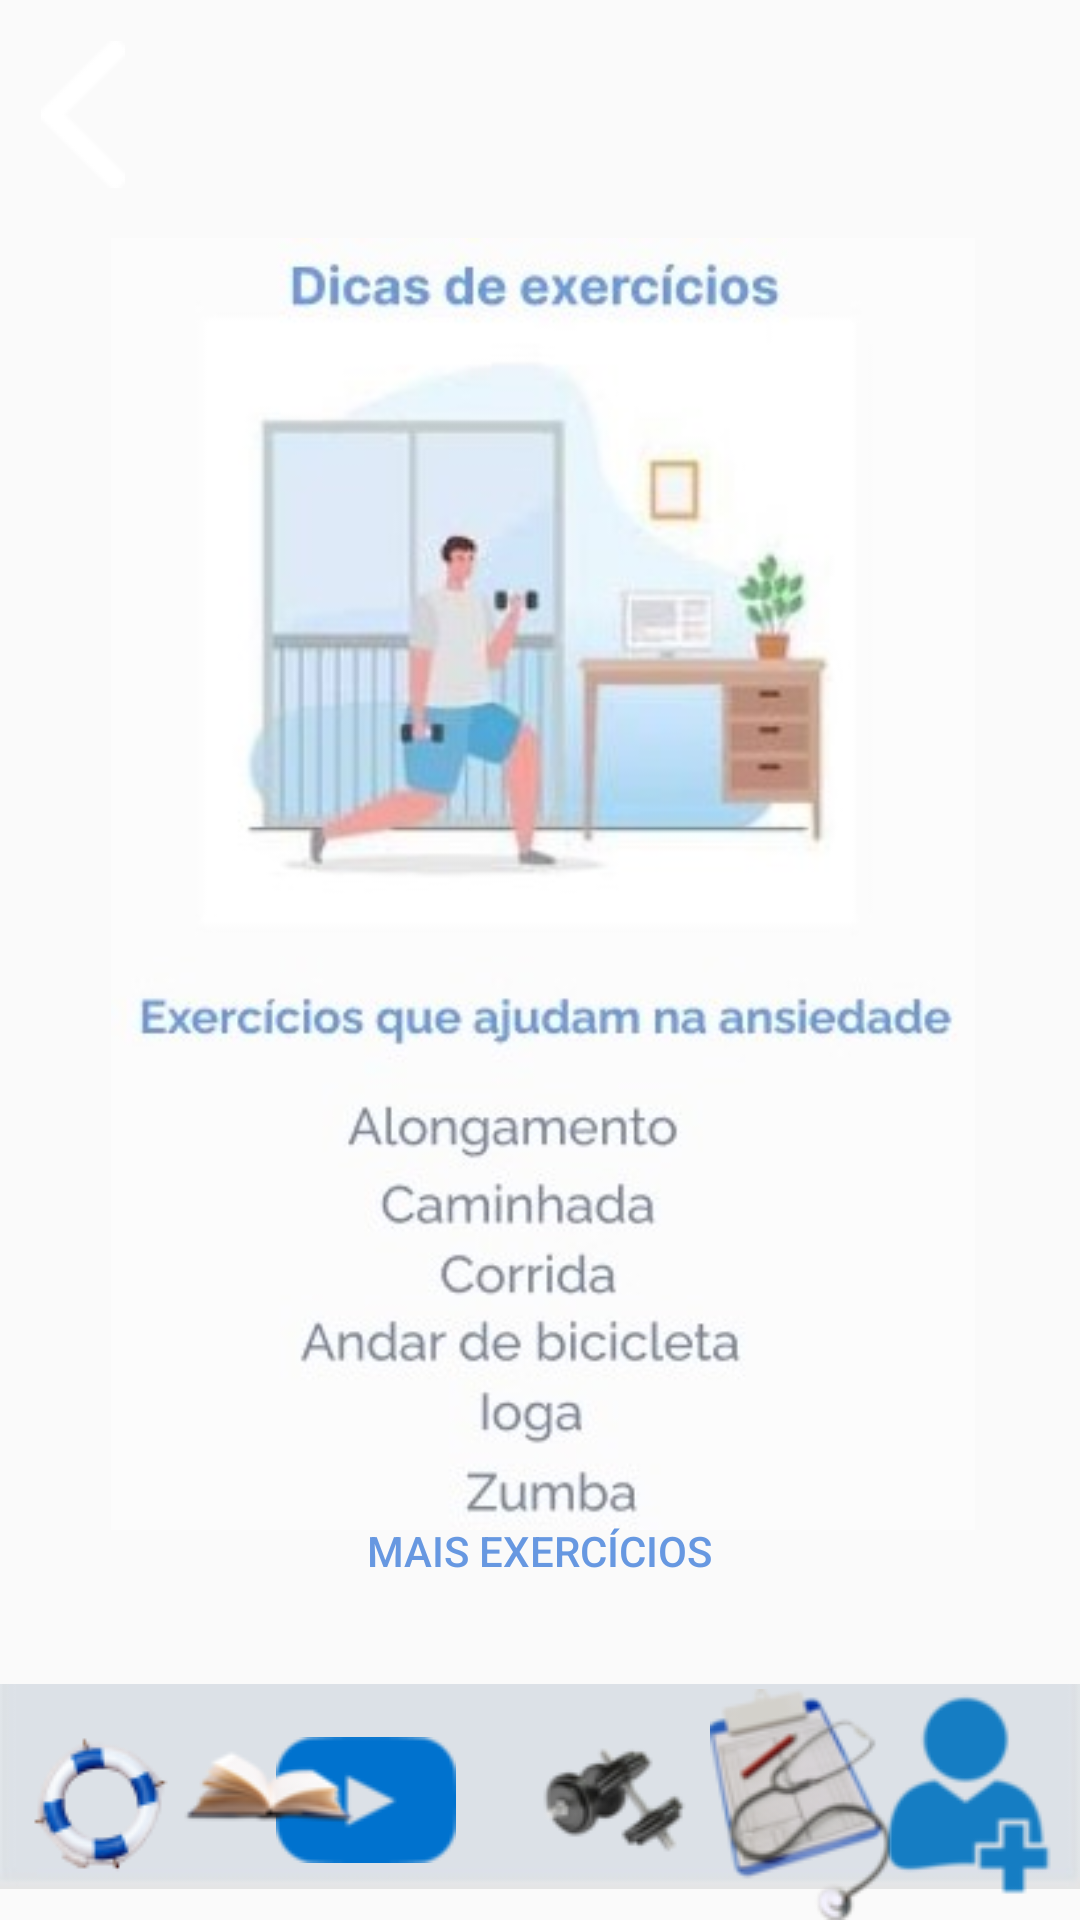

Icon bounding boxes for this 1080 × 1920 phone screenshot, format (x1, y1, x2, y2):
ajudabotao: (34, 1738, 167, 1869)
iconecadastromenu: (882, 1697, 1062, 1896)
iconepalylistmenu: (276, 1737, 456, 1863)
iconexerciciosmenu: (545, 1750, 683, 1850)
